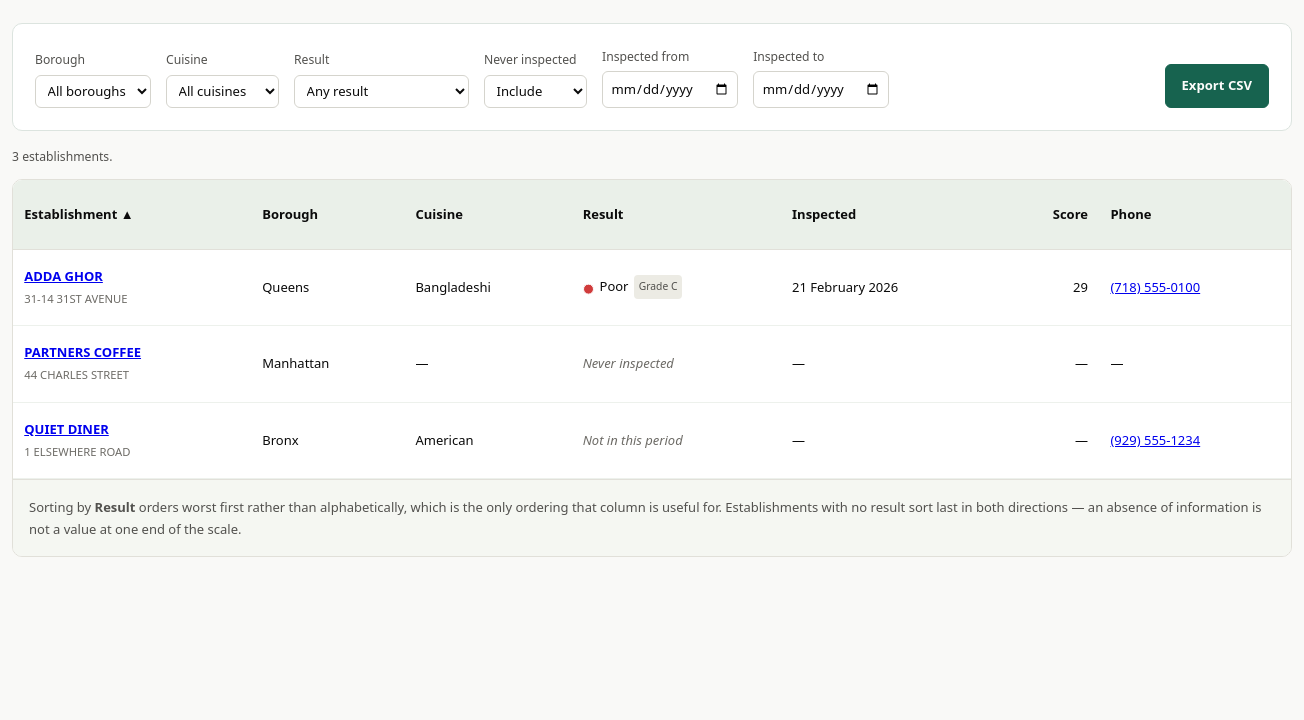
Scenario: EstablishmentsReport › explains the filter combination that cannot match anything
The image size is (1304, 720).
Expected: the row "ADDA GHOR" is shown, [13, 249, 1291, 326]
Select "Good" in the dropdown labelled "Result": {"x": 382, "y": 91} [294, 75, 469, 108]
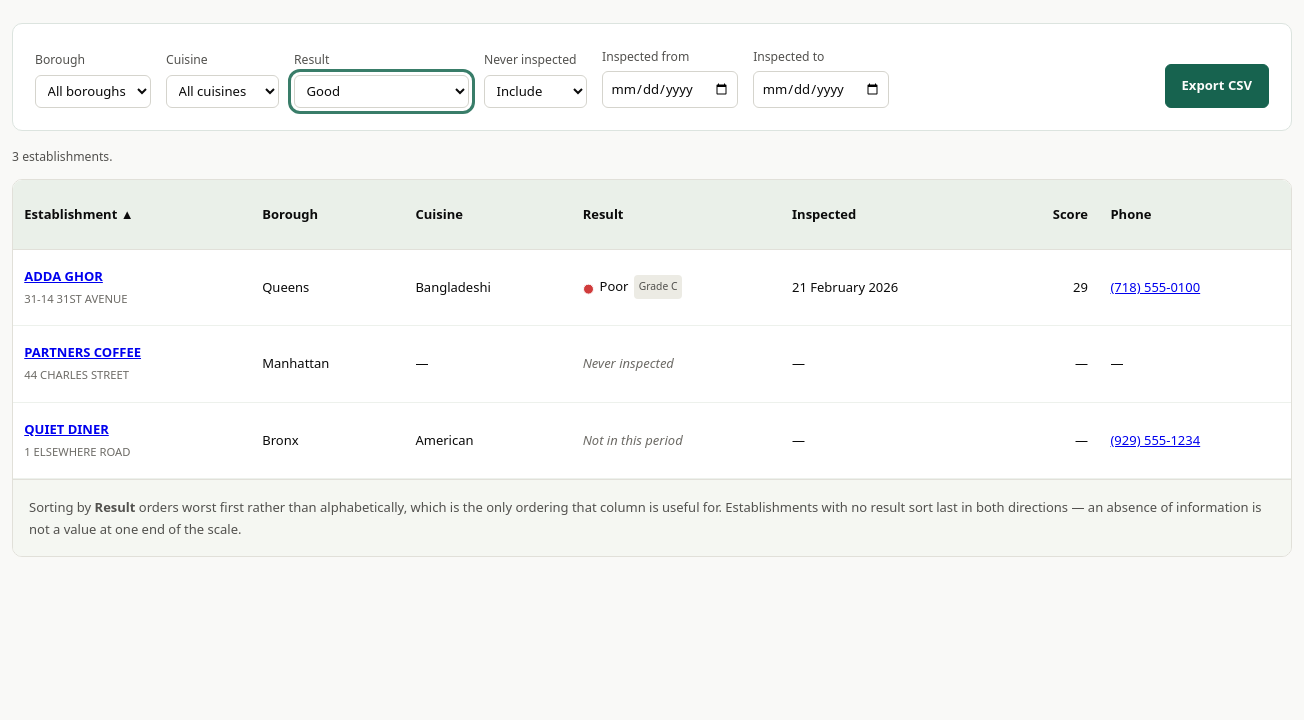
Select "Only these" in the dropdown labelled "Never inspected": {"x": 536, "y": 91} [484, 75, 587, 108]
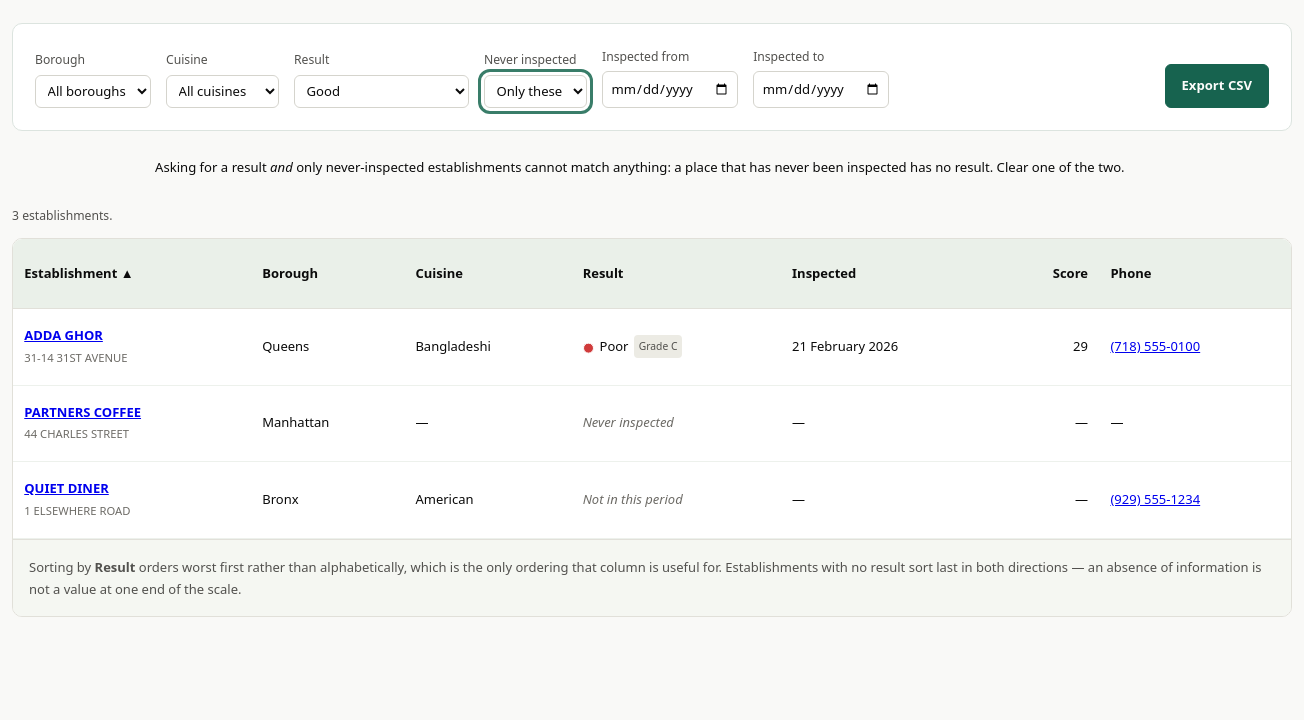
Expected: the text "cannot match anything" is shown, [293, 158, 1125, 176]
